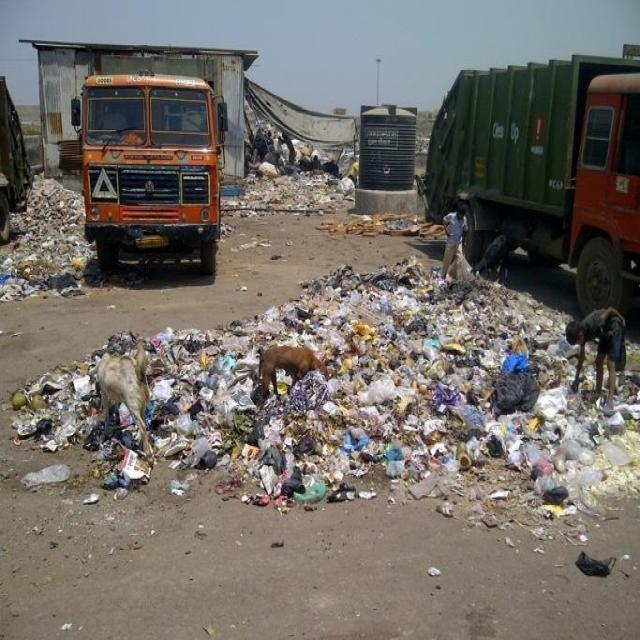garbage: (36, 228, 605, 494), (4, 176, 93, 286)
